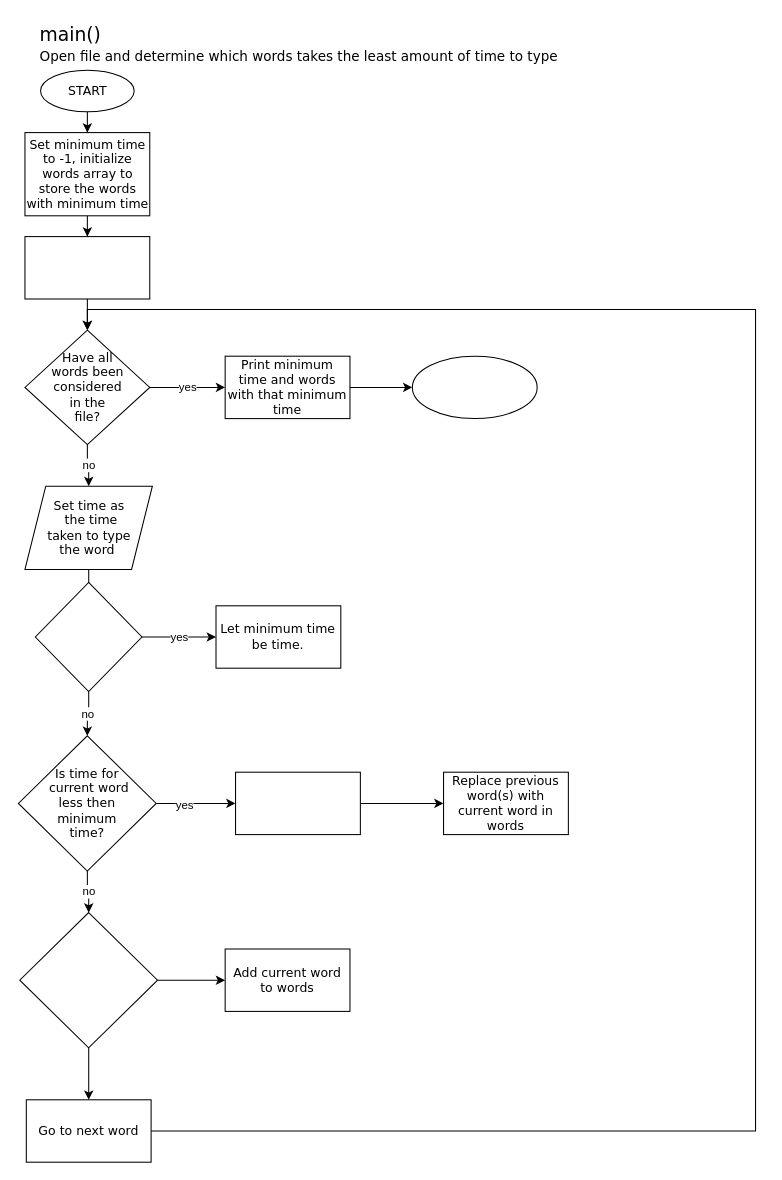
Some shapes in this 782 by 1180 pixel diagram are drawn without their labels. Each missing label, with the centre of its shape:
END: the point at 474,387
Is minimum time = -1?: the point at 88,636
Is time for current word same as minimum time?: the point at 88,980
Let minimum time be time: the point at 297,803
Open file with words and go to the first word: the point at 87,267
